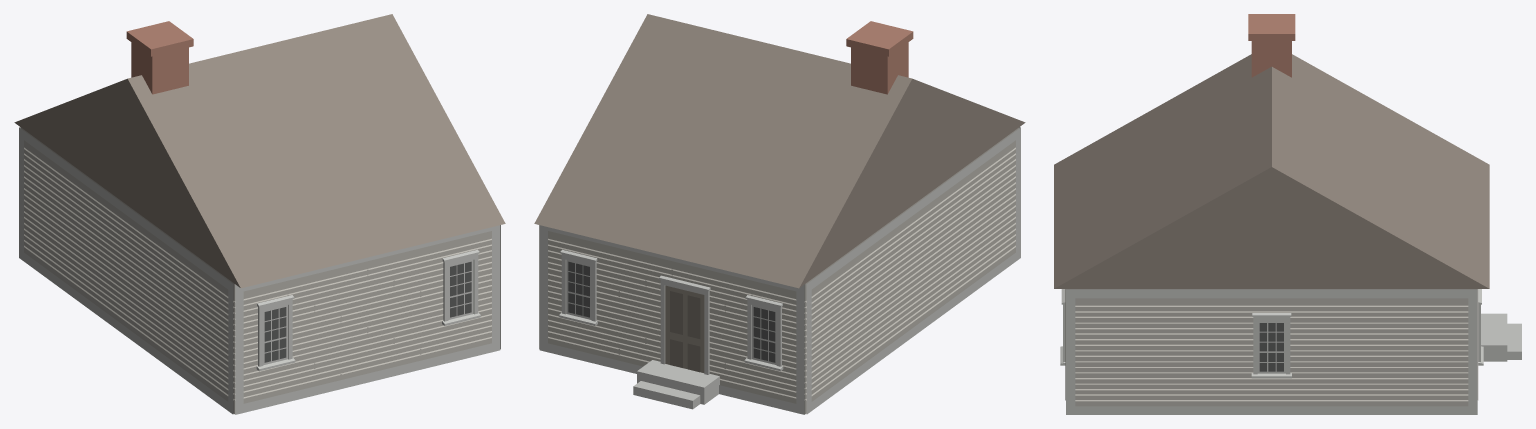
The model's file is recon_1835_west_031__inferred_1835.glb.
The picture shows the model from 3 angles, left to right: view 1: azimuth 30°, elevation 25°; view 2: azimuth 150°, elevation 25°; view 3: azimuth 270°, elevation 25°; orthographic projection. The views are drawn at different scales.
Visible parts, largest first — view 1: recon_1835_west_031__inferred_1835; view 2: recon_1835_west_031__inferred_1835; view 3: recon_1835_west_031__inferred_1835.
Boxes of the visible parts, left/top/right/bottom form: recon_1835_west_031__inferred_1835: left=14, top=14, right=505, bottom=414; recon_1835_west_031__inferred_1835: left=534, top=14, right=1025, bottom=414; recon_1835_west_031__inferred_1835: left=1054, top=14, right=1521, bottom=414.
Size of the model in its own units: 6.25 by 6.44 by 9.7.
